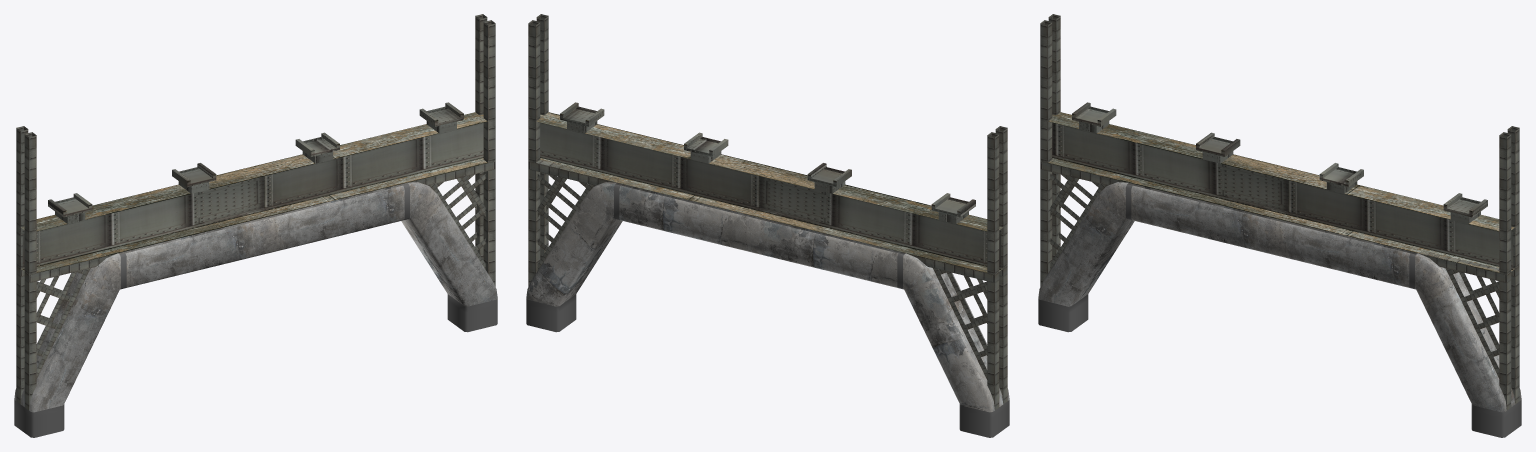
File: Bridge-Support-WideA.fbx
3 views of the same model, side by side, from view 1: azimuth 30°, elevation 25°; view 2: azimuth 150°, elevation 25°; view 3: azimuth 330°, elevation 25° (orthographic).
Visible parts, largest first — view 1: Bridge-Support-WideA; view 2: Bridge-Support-WideA; view 3: Bridge-Support-WideA.
Part boxes in pixels (x1,y1,x2,y2): Bridge-Support-WideA: [14, 14, 497, 437]; Bridge-Support-WideA: [526, 14, 1009, 437]; Bridge-Support-WideA: [1038, 14, 1521, 437].
Size of the model in its own units: 2100 by 1285 by 150.
